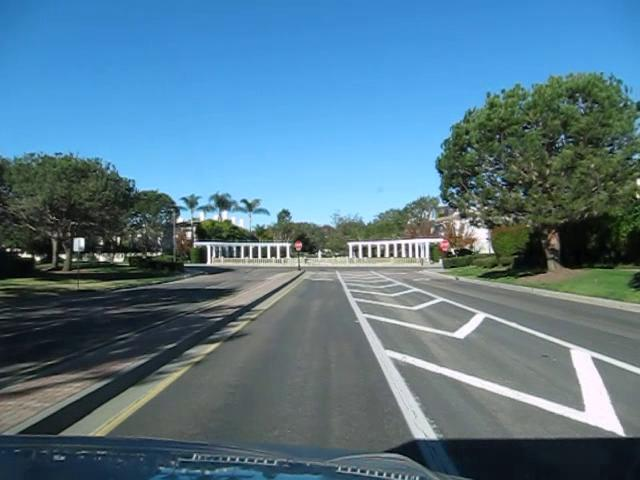stop: (439, 239, 449, 250)
